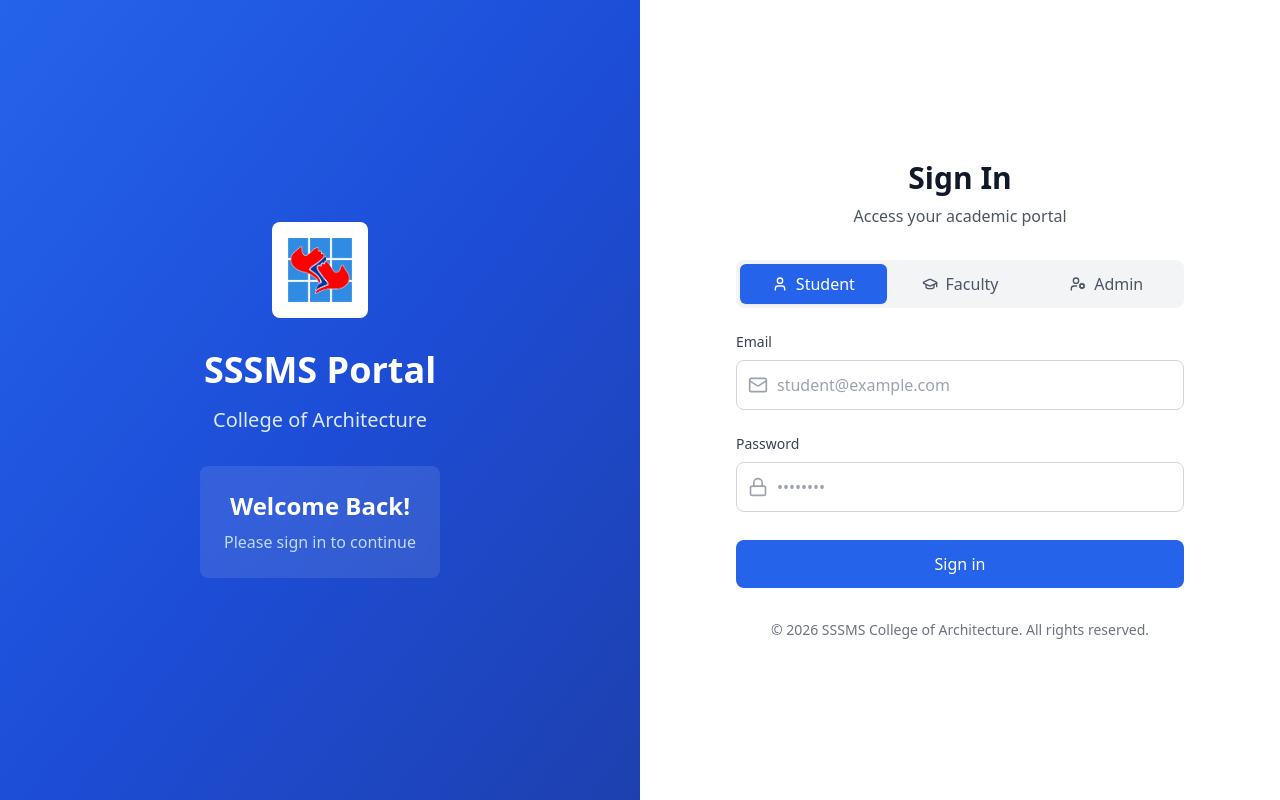
Test: Login Component › shows role mismatch error if user role doesn't match selected role
// Default role is student
Type "admin@example.com" into the field labelled "Email" at (960, 385), box 736,360 -> 1184,410
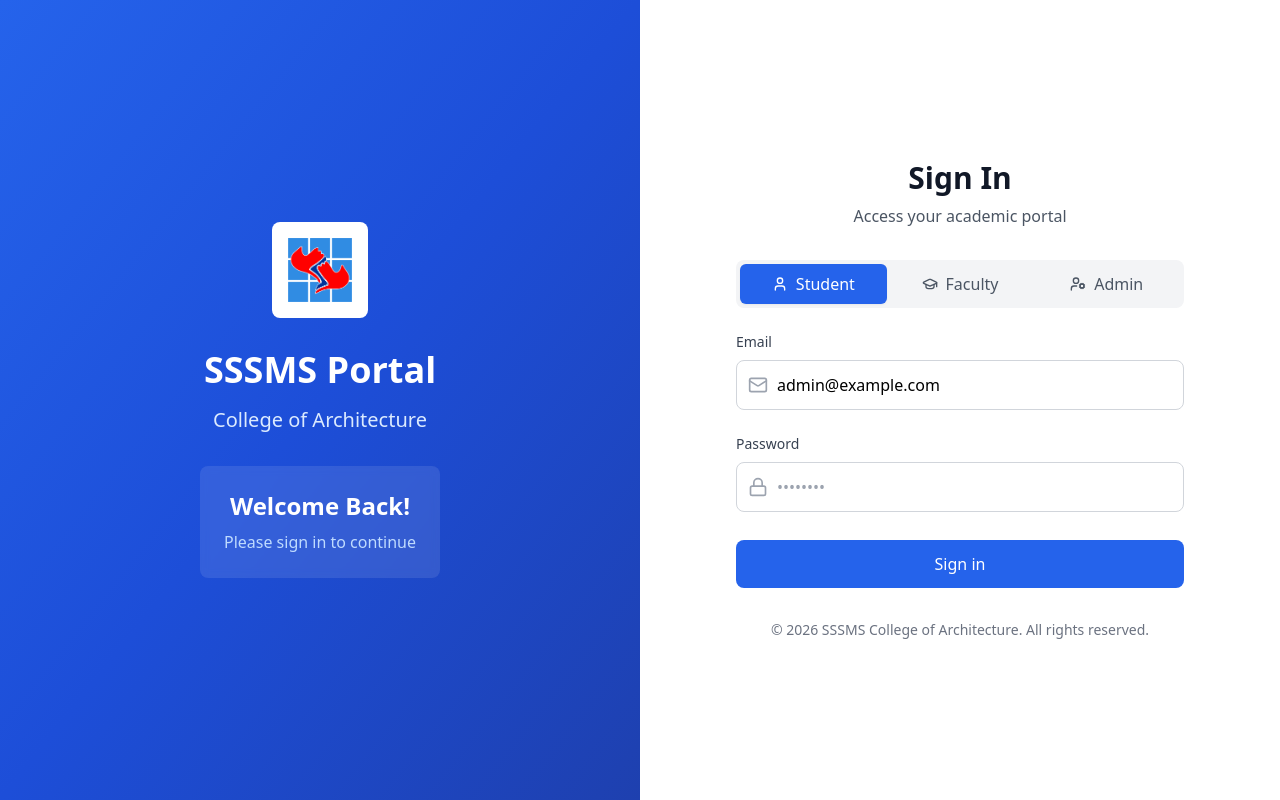
Type "password" into the password field labelled "Password" at (960, 487), box 736,462 -> 1184,512
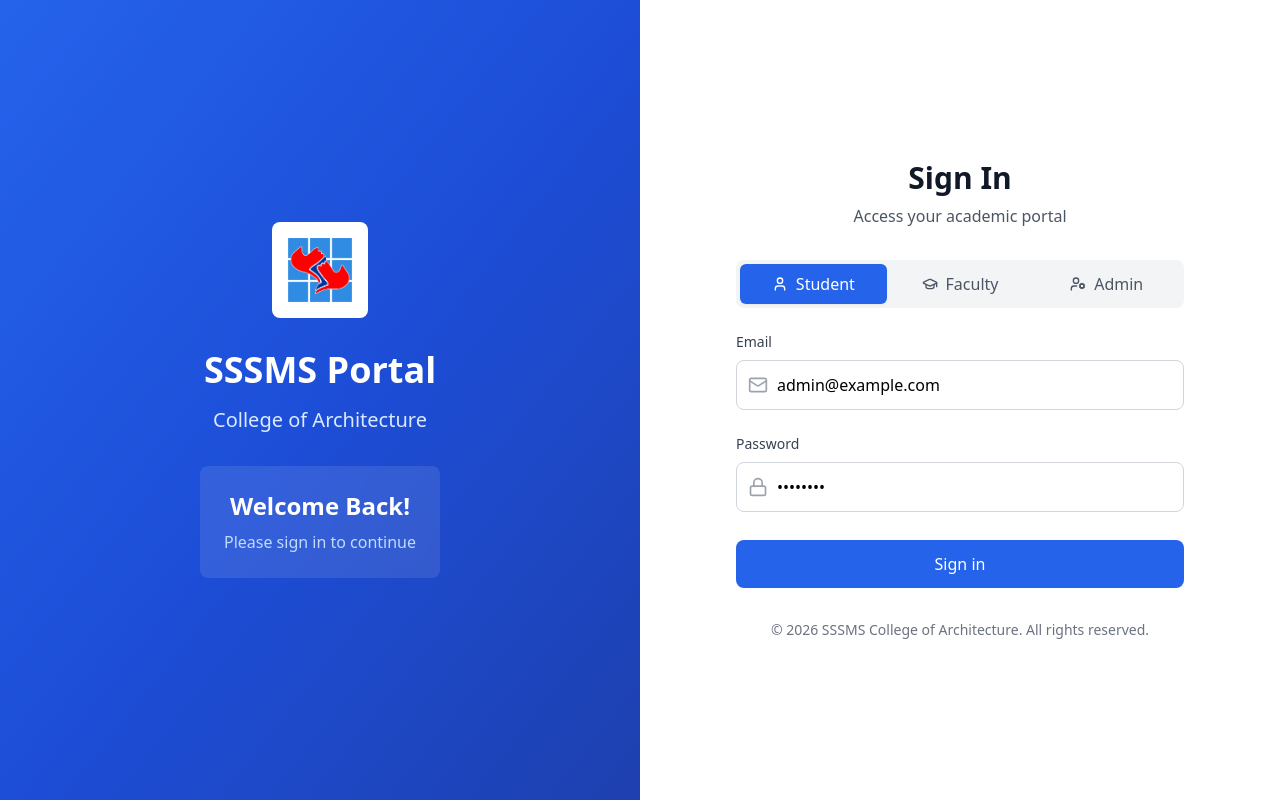
Click the button "Sign in" at (960, 564), box 736,540 -> 1184,588
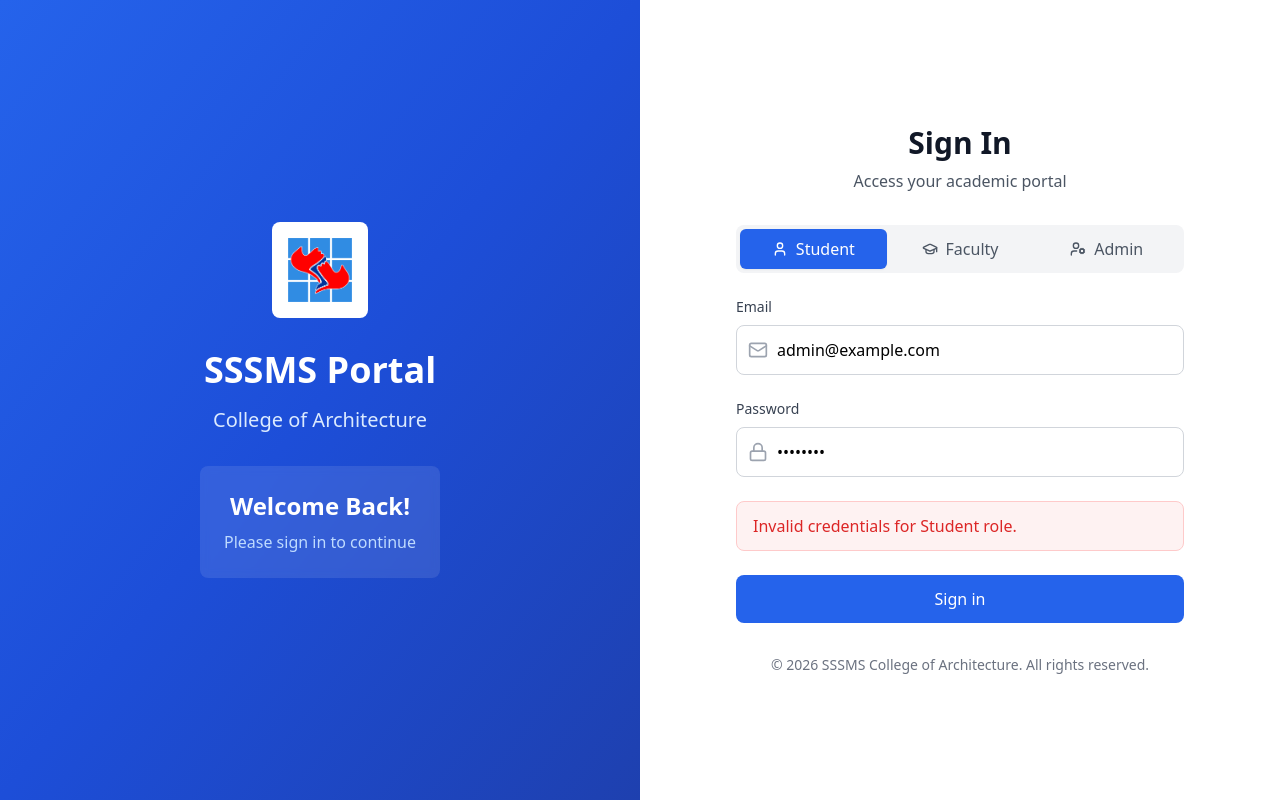
Result: the text "Invalid credentials for Student role." is shown at 736,501 -> 1184,551
